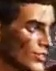kevin: (4, 1, 49, 70)
